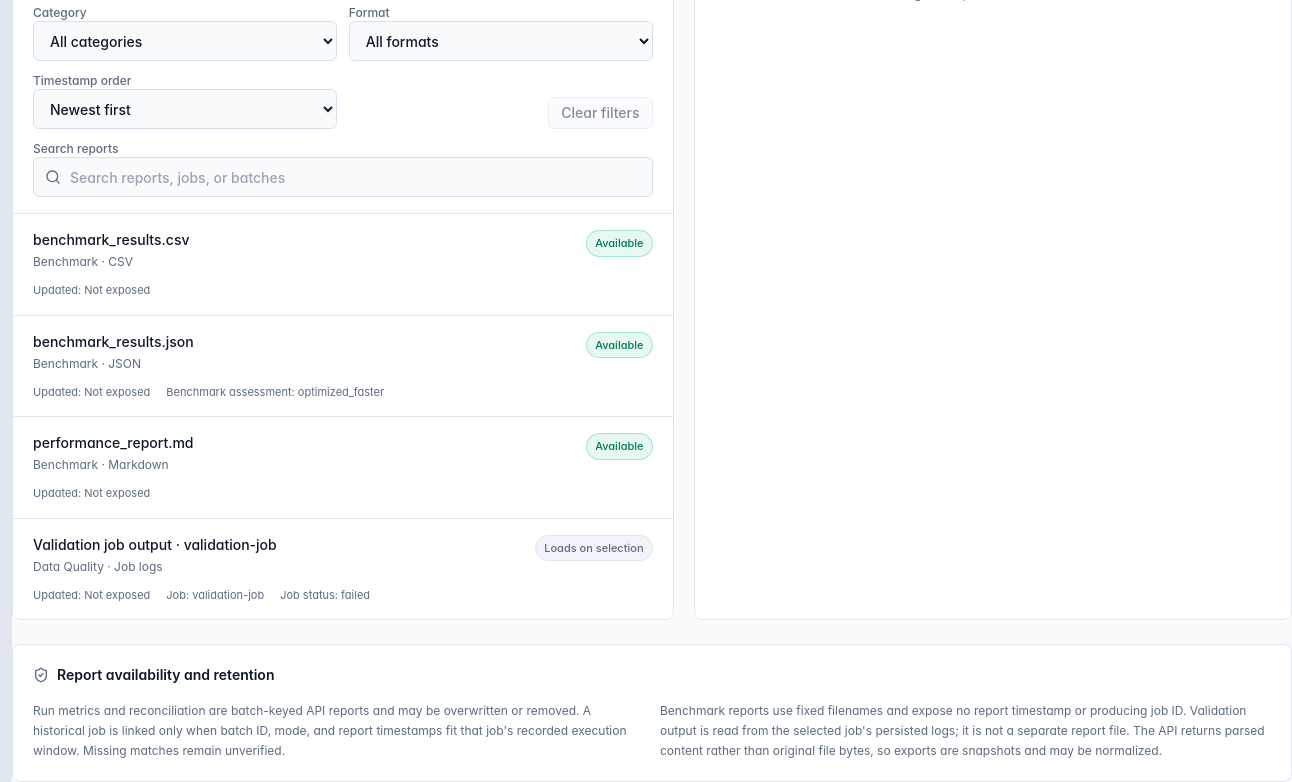
ReportsPage › loads validation results on selection and keeps quality status separate from execution status
The image size is (1292, 782).
(page scrolled)
What coordinates should you click on to do the following:
click the button "Validation job output · validation-job"
I would click on:
 (155, 544)
Its box is x1=13 y1=518 x2=672 y2=619.
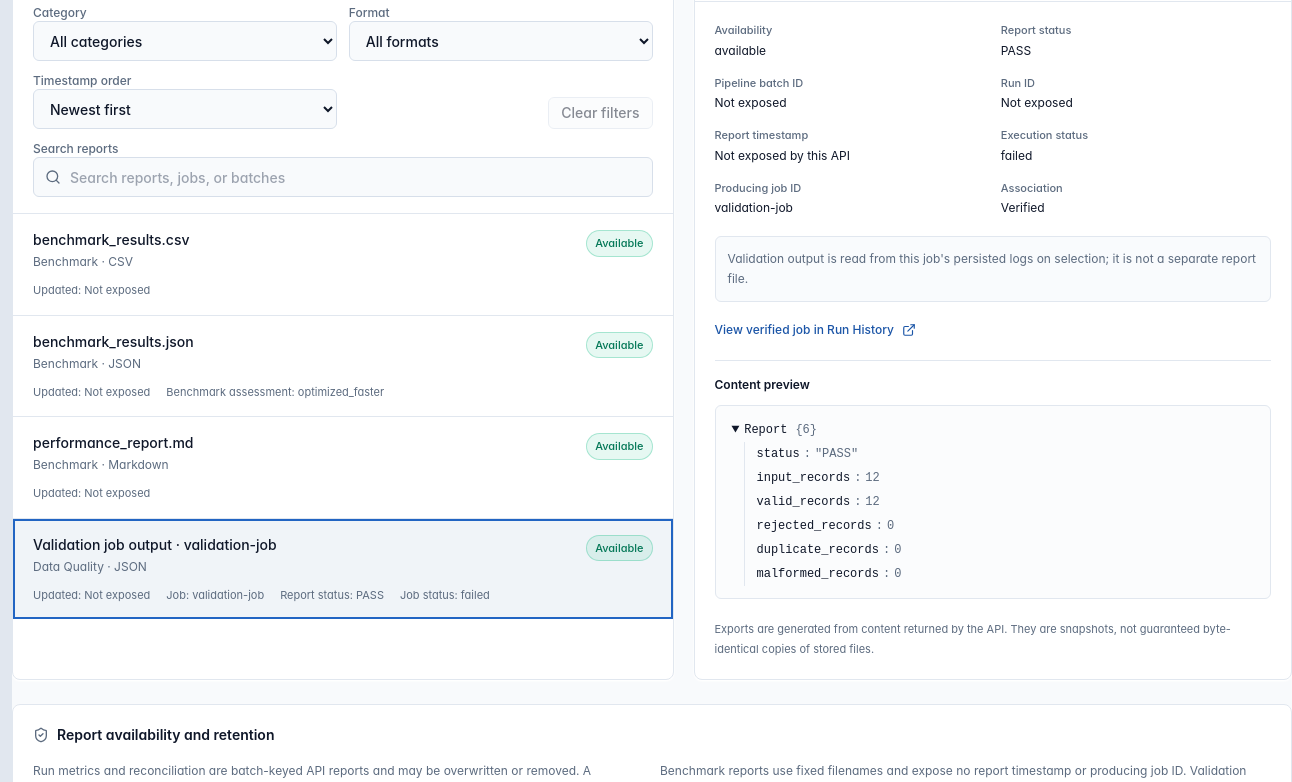
expect the text "PASS" is shown: met, box x1=1001 y1=42 x2=1031 y2=58
expect the text "failed" is shown: met, box x1=1001 y1=148 x2=1032 y2=162
expect the text "not a separate report file" is shown: met, box x1=728 y1=251 x2=1256 y2=286
